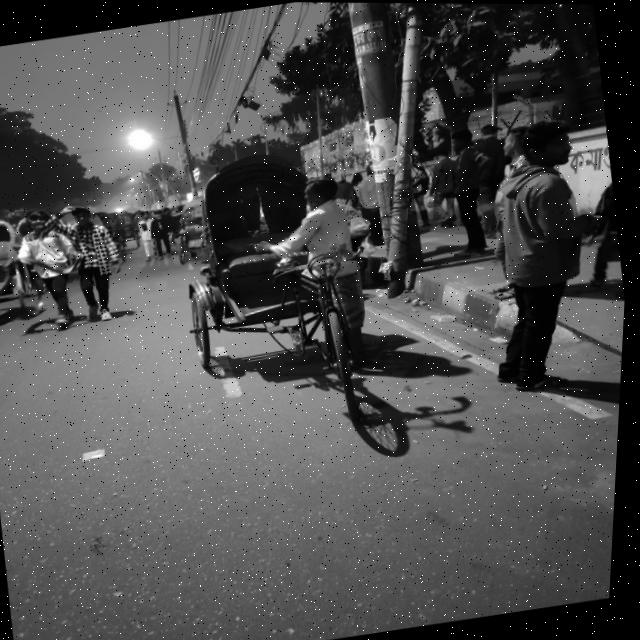rikshaw: (180, 122, 405, 404)
